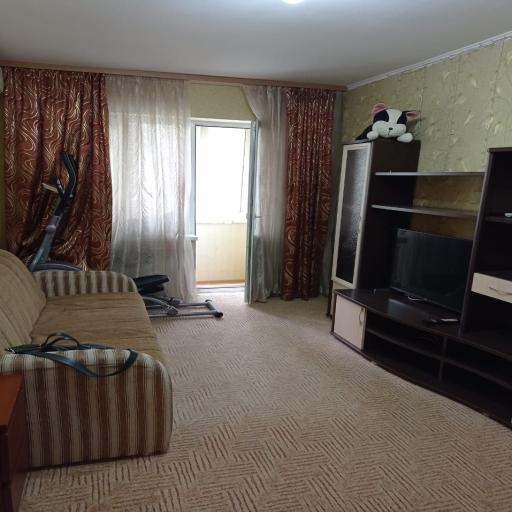sidewalk: (0, 250, 172, 467)
